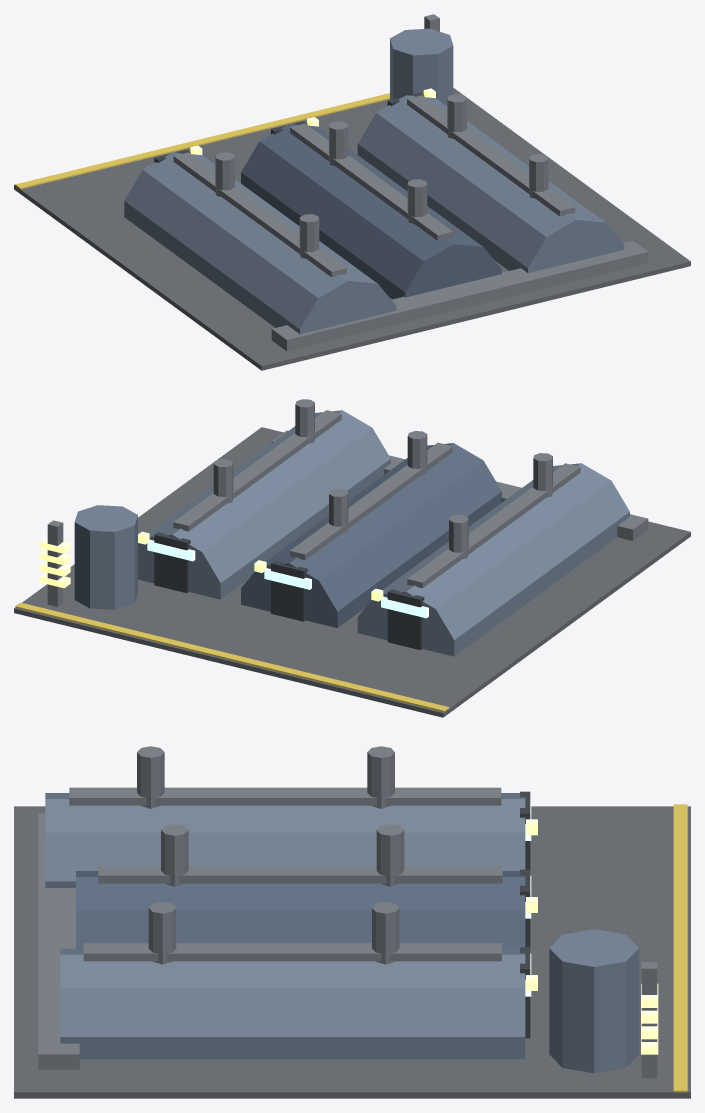
File: zone_low_6_t4.glb
3 renders of one model, top to bottom at view 1: azimuth 30°, elevation 25°; view 2: azimuth 150°, elevation 25°; view 3: azimuth 270°, elevation 25°, orthographic. The views are drawn at different scales.
Visible parts, largest first — view 1: zone_low_6_t4, detail; view 2: zone_low_6_t4, detail; view 3: zone_low_6_t4, detail.
Boxes of the visible parts, left/top/right/bottom form: zone_low_6_t4: left=14, top=28, right=690, bottom=370; detail: left=15, top=14, right=548, bottom=258; zone_low_6_t4: left=14, top=410, right=690, bottom=717; detail: left=15, top=399, right=552, bottom=712; zone_low_6_t4: left=14, top=787, right=690, bottom=1098; detail: left=137, top=746, right=687, bottom=1092.
Size of the model in its own units: 19.6 by 4.02 by 19.6.
